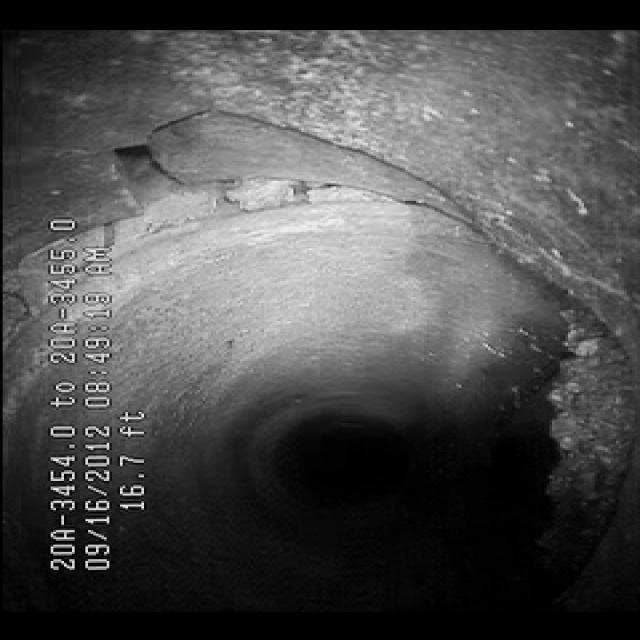Fracture: (112, 89, 492, 232)
